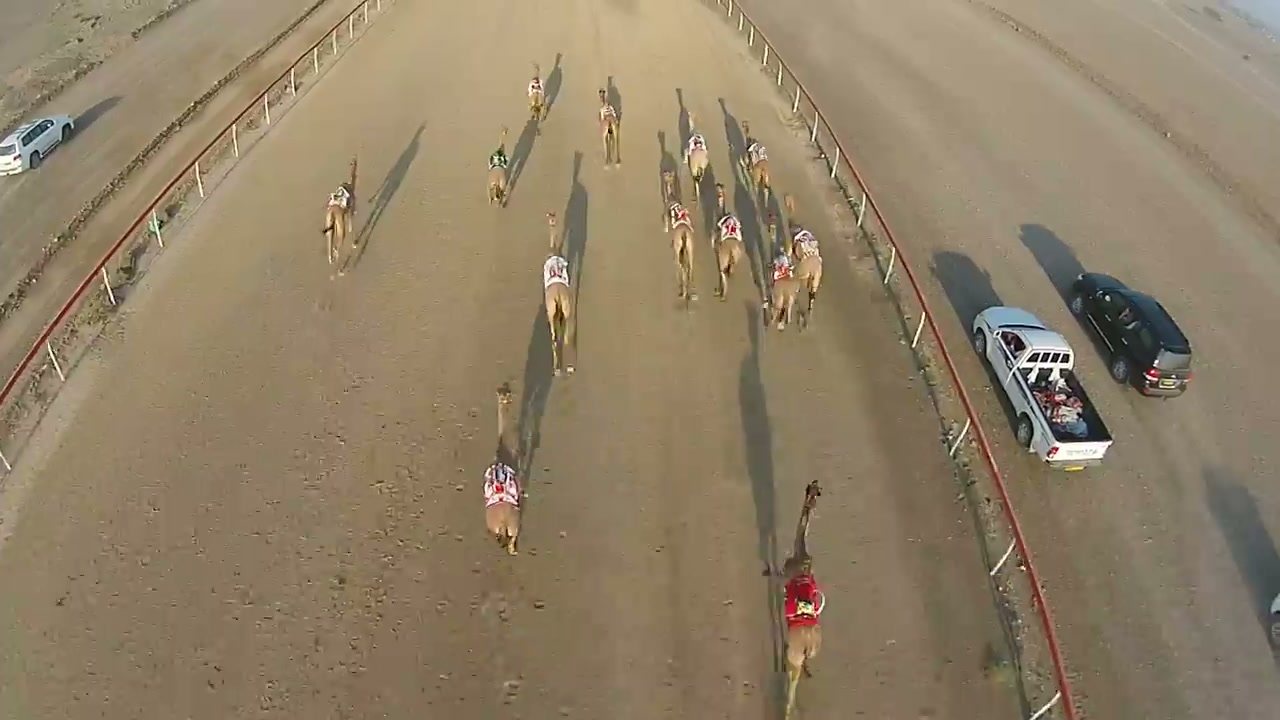animal_footprint: (276, 264, 540, 719), (702, 542, 779, 711)
